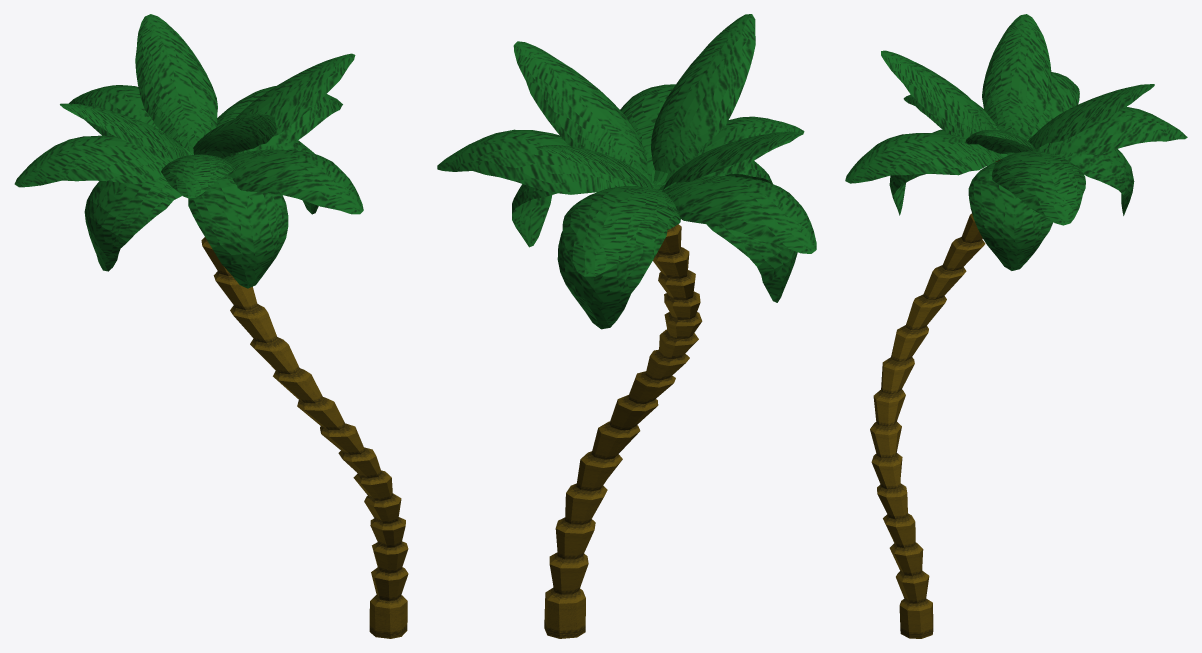
Rendered from palm.glb.
3 renders of one model, left to right at view 1: azimuth 30°, elevation 25°; view 2: azimuth 150°, elevation 25°; view 3: azimuth 270°, elevation 25°, orthographic. The views are drawn at different scales.
Visible parts, largest first — view 1: Cube.001, Sphere.009, Sphere.007, Sphere.008, Sphere.005, Sphere.004, Sphere, Sphere.003, Sphere.006, Sphere.012, Sphere.002, Sphere.011; view 2: Cube.001, Sphere.006, Sphere, Sphere.005, Sphere.011, Sphere.002, Sphere.010, Sphere.003, Sphere.004, Sphere.012, Sphere.008, Sphere.001 (+1 smaller); view 3: Cube.001, Sphere.003, Sphere.008, Sphere.001, Sphere.002, Sphere.006, Sphere.011, Sphere.009, Sphere.010, Sphere.005, Sphere, Sphere.007.
Part boxes in pixels (left/top/right/bottom): Cube.001: left=201, top=237, right=408, bottom=638; Sphere.009: left=135, top=14, right=217, bottom=154; Sphere.007: left=188, top=174, right=288, bottom=288; Sphere.008: left=225, top=149, right=363, bottom=214; Sphere.005: left=14, top=135, right=173, bottom=187; Sphere.004: left=84, top=176, right=181, bottom=271; Sphere: left=223, top=53, right=355, bottom=158; Sphere.003: left=60, top=103, right=189, bottom=159; Sphere.006: left=193, top=113, right=276, bottom=158; Sphere.012: left=161, top=154, right=236, bottom=198; Sphere.002: left=217, top=86, right=342, bottom=159; Sphere.011: left=69, top=85, right=192, bottom=155; Cube.001: left=544, top=224, right=702, bottom=638; Sphere.006: left=651, top=14, right=755, bottom=182; Sphere: left=513, top=41, right=650, bottom=180; Sphere.005: left=657, top=176, right=816, bottom=253; Sphere.011: left=562, top=186, right=680, bottom=276; Sphere.002: left=437, top=129, right=636, bottom=193; Sphere.010: left=557, top=180, right=667, bottom=329; Sphere.003: left=658, top=131, right=802, bottom=190; Sphere.004: left=649, top=181, right=797, bottom=302; Sphere.012: left=661, top=116, right=804, bottom=186; Sphere.008: left=620, top=84, right=675, bottom=181; Sphere.001: left=512, top=184, right=669, bottom=247; Cube.001: left=870, top=159, right=1000, bottom=638; Sphere.003: left=982, top=14, right=1051, bottom=139; Sphere.008: left=845, top=133, right=1007, bottom=183; Sphere.001: left=968, top=161, right=1053, bottom=270; Sphere.002: left=992, top=151, right=1085, bottom=225; Sphere.006: left=881, top=50, right=994, bottom=139; Sphere.011: left=1028, top=106, right=1187, bottom=154; Sphere.009: left=1029, top=84, right=1154, bottom=151; Sphere.010: left=1056, top=149, right=1134, bottom=215; Sphere.005: left=1026, top=72, right=1079, bottom=140; Sphere: left=966, top=130, right=1036, bottom=153; Sphere.007: left=889, top=129, right=949, bottom=215.
Size of the model in its own units: 8.73 by 14.37 by 8.65.
2 materials, 2 textured.
